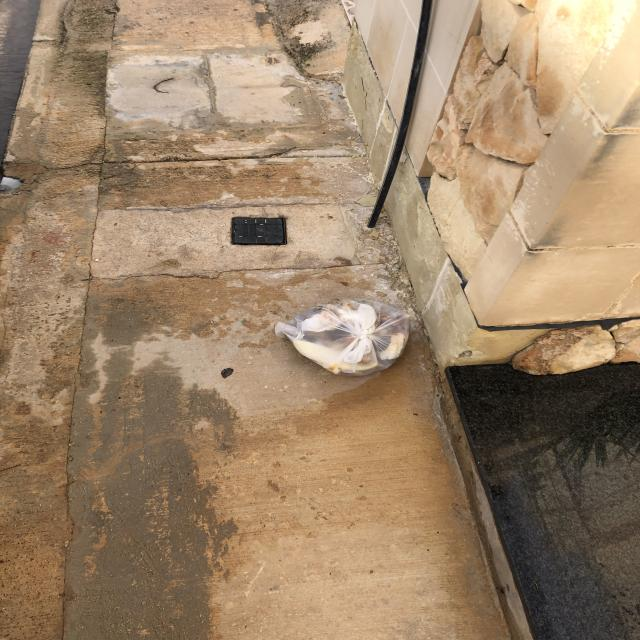Organic Waste -White Bag-: (266, 286, 430, 388)
